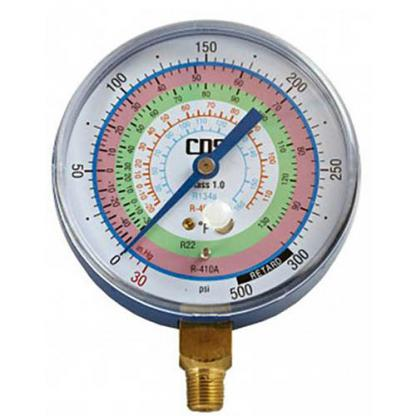needle: (124, 171, 201, 253)
